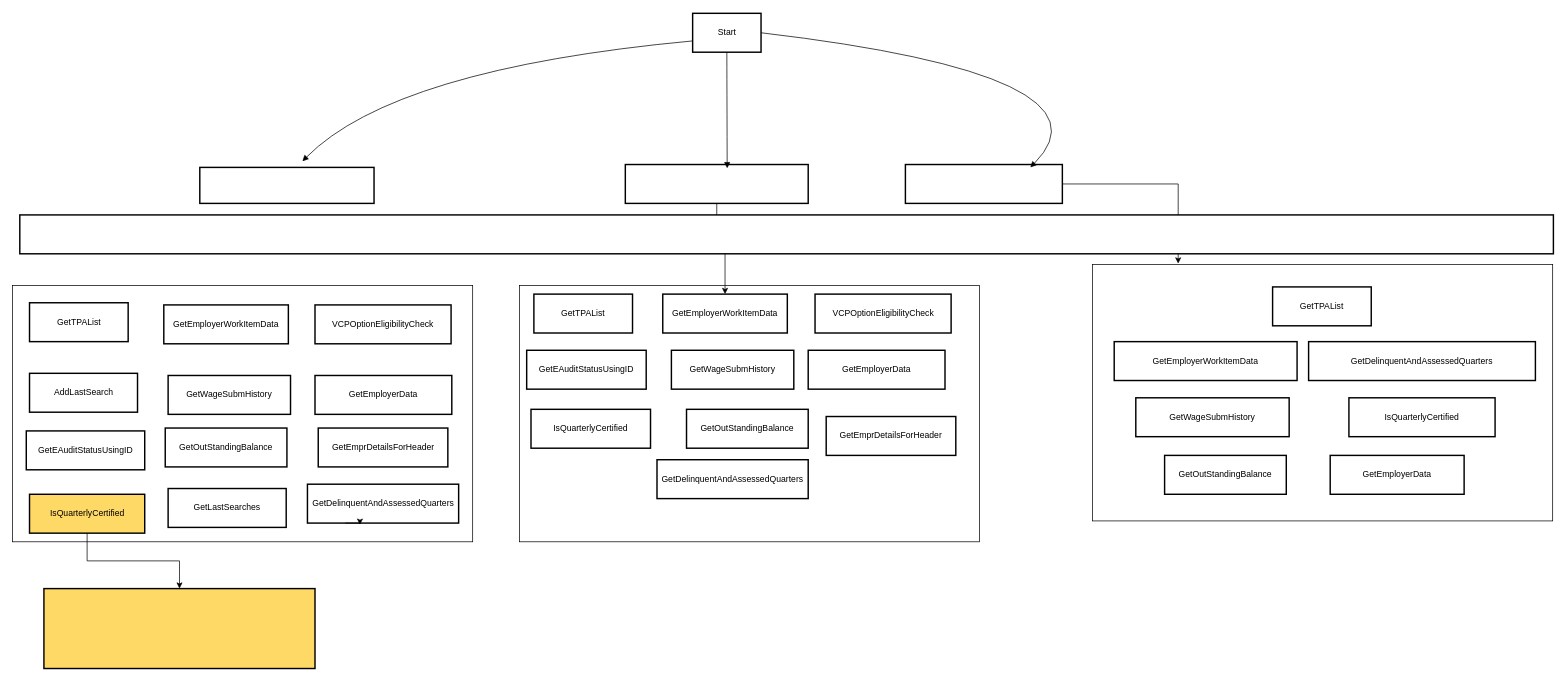
This 1567x681 diagram has some shape labels left out. Here are the shapes that lost their labels. From the top down, the centre of each, then its label:
At (286,185): "Elastic Search Result Row".
At (716,183): "Impersonate Employer From Recent Search".
At (983,183): "Direct Employer Login".
At (786,234): "API Calls".
At (179,628): "It will be only called for employer".
